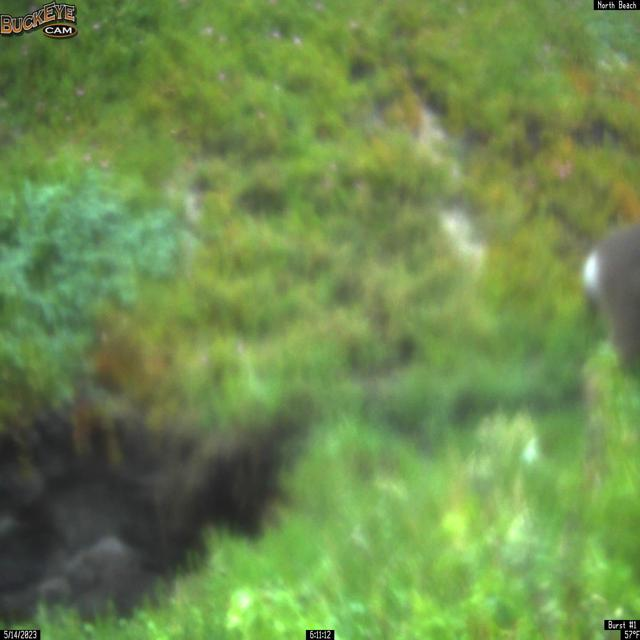deer: (582, 219, 640, 400)
